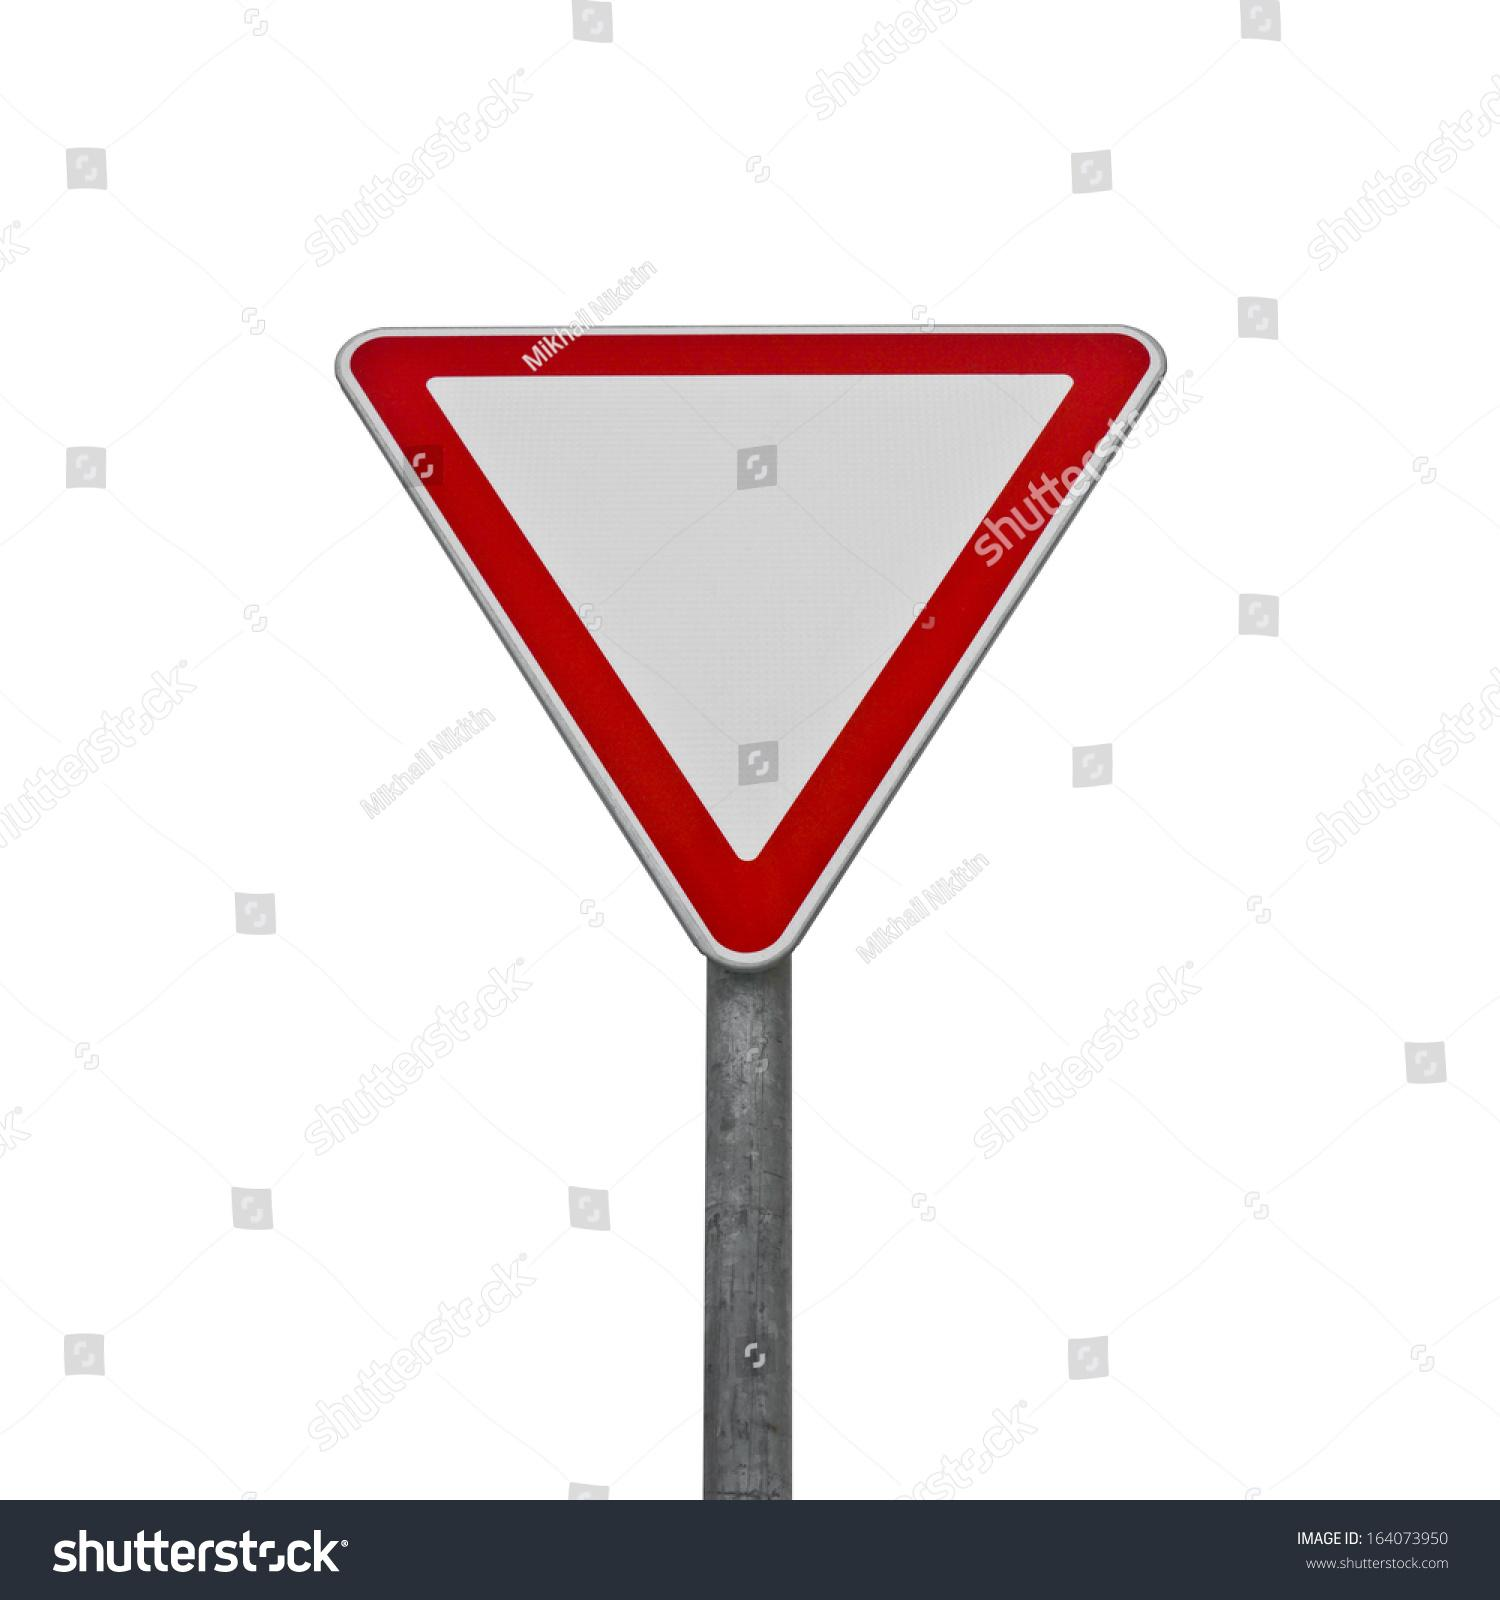Give Way: (317, 273, 1224, 1004)
